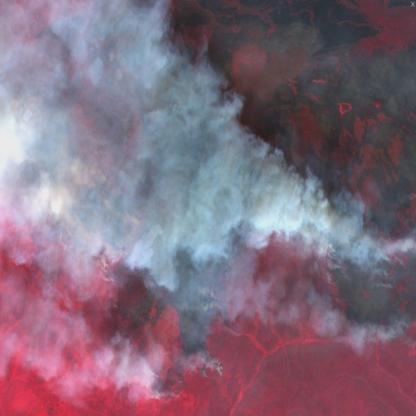fire: (65, 119, 154, 334), (316, 208, 416, 342), (141, 344, 226, 403), (24, 69, 62, 163)
